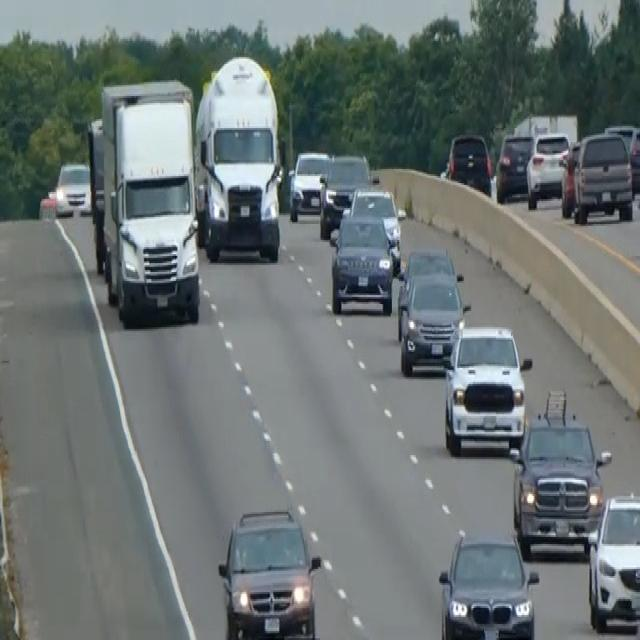car: (508, 388, 611, 556), (216, 505, 321, 638), (442, 320, 531, 457), (437, 528, 539, 638), (398, 267, 470, 375), (585, 491, 639, 633), (329, 212, 394, 314), (396, 244, 458, 338), (572, 130, 633, 224), (347, 183, 402, 270), (318, 151, 371, 238), (525, 128, 570, 208), (445, 130, 492, 196), (288, 147, 330, 220), (495, 130, 534, 202), (605, 121, 639, 194), (401, 243, 456, 281), (54, 160, 90, 217), (559, 139, 581, 217)
lorry: (97, 77, 200, 326), (195, 53, 283, 263)
